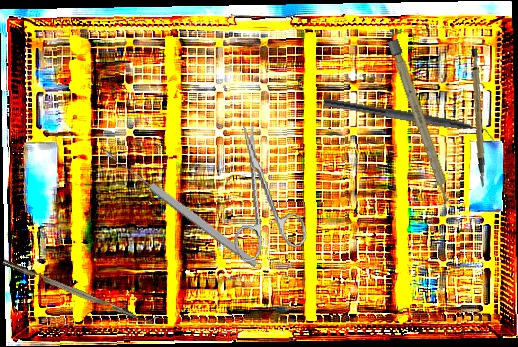Chopper: (2, 252, 159, 329), (321, 97, 498, 146)
Iris Scissors: (214, 115, 310, 264)
Scalpel Handle: (387, 38, 454, 205), (457, 47, 497, 190)
Surgical Spoon: (103, 147, 260, 270)
